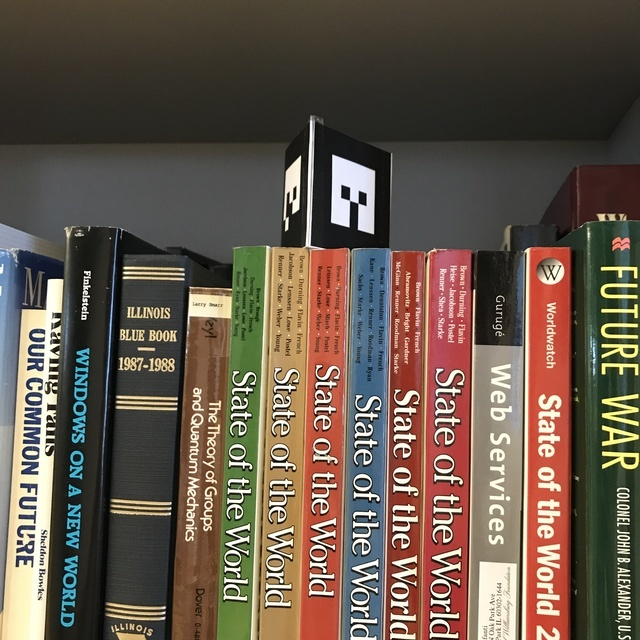ARTag: (281, 118, 392, 258)
